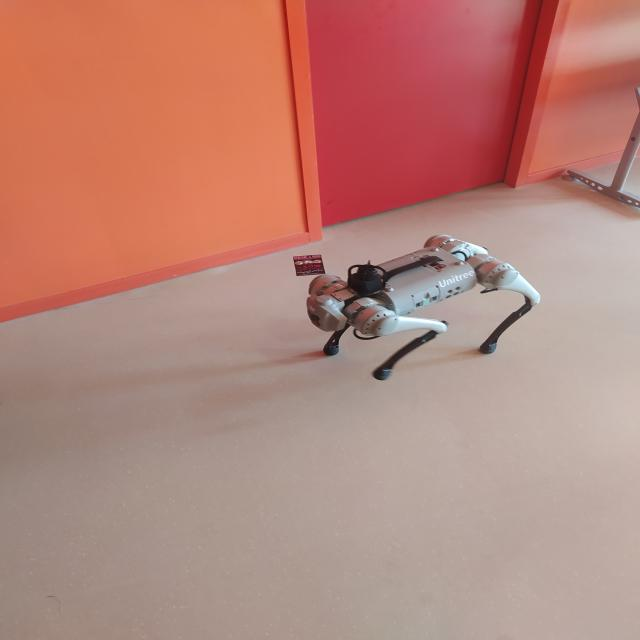unitree-go1-robot: (293, 222, 548, 392)
